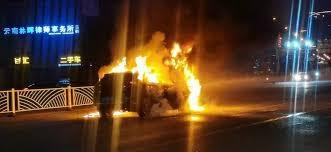fire: (101, 41, 208, 108)
